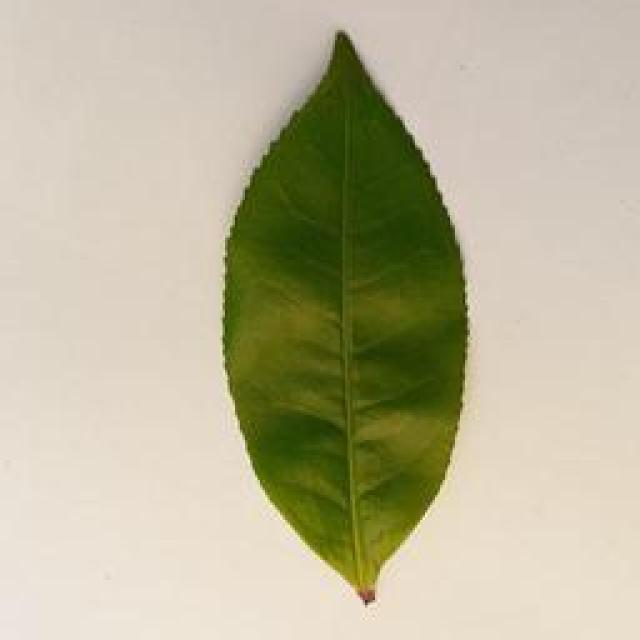Healthy: (224, 28, 466, 598)
